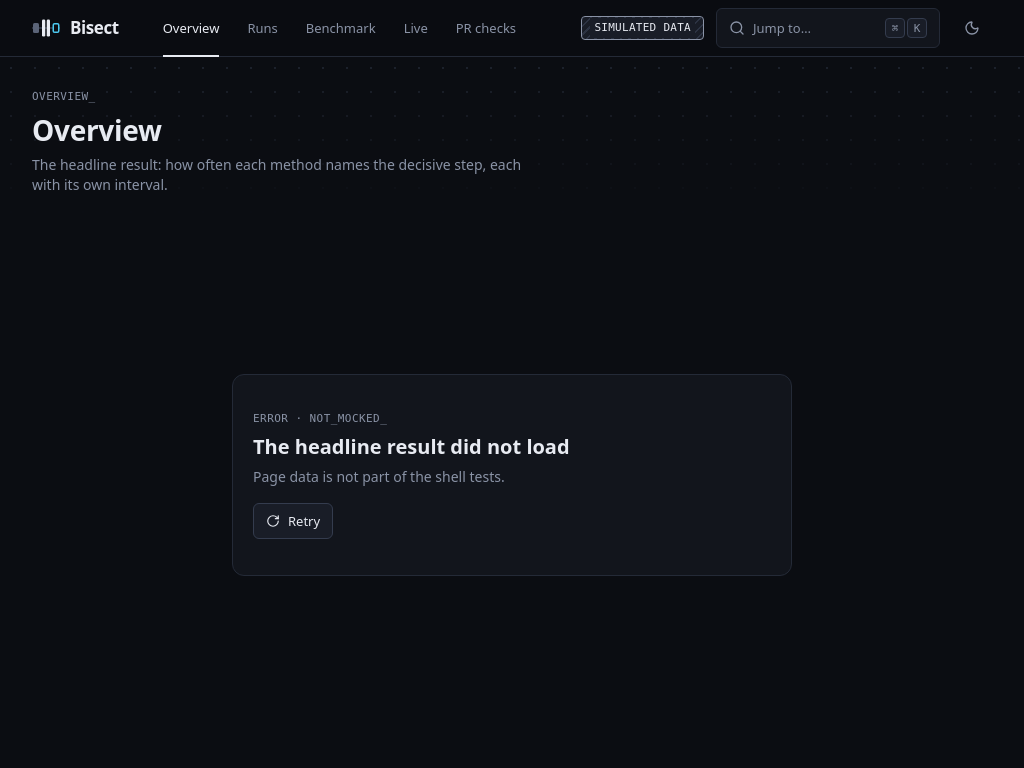
Test: AppShell › a search always offers the filter-runs action, and Enter opens Runs with that filter
Click the button with aria-label "Open command palette" at (828, 28), box top-left (716, 8), bottom-right (940, 48)
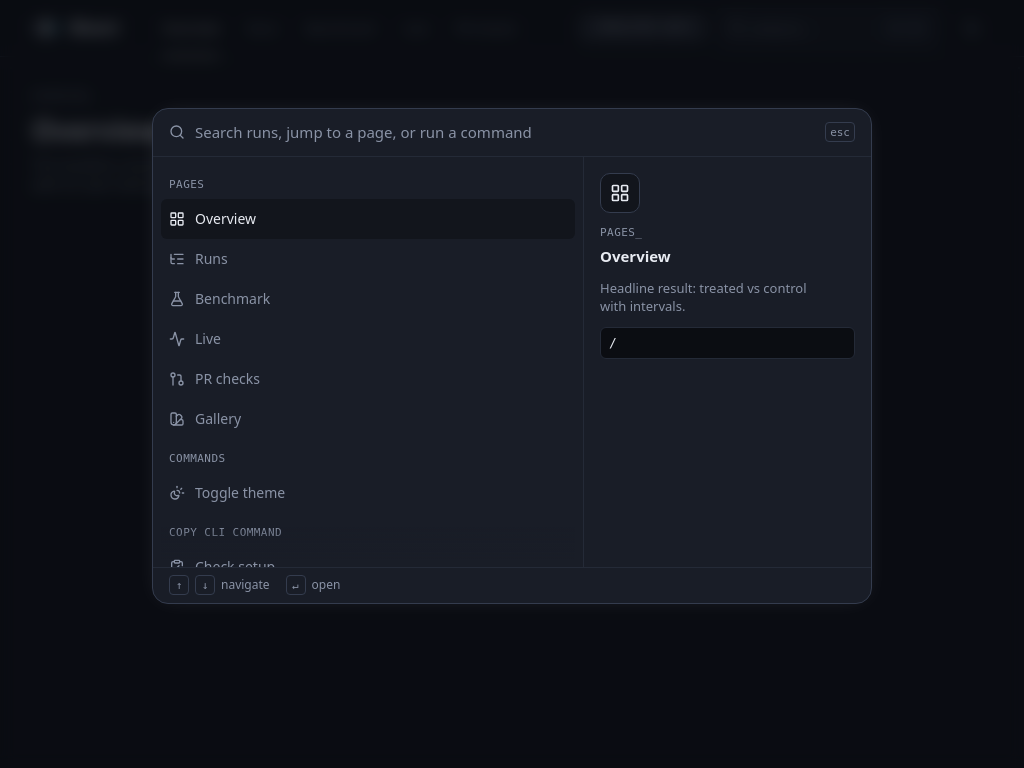
# The palette is a lazy chunk: wait for its input before typing.
Type "qqzz" into the dropdown at (505, 132), box top-left (195, 108), bottom-right (815, 156)
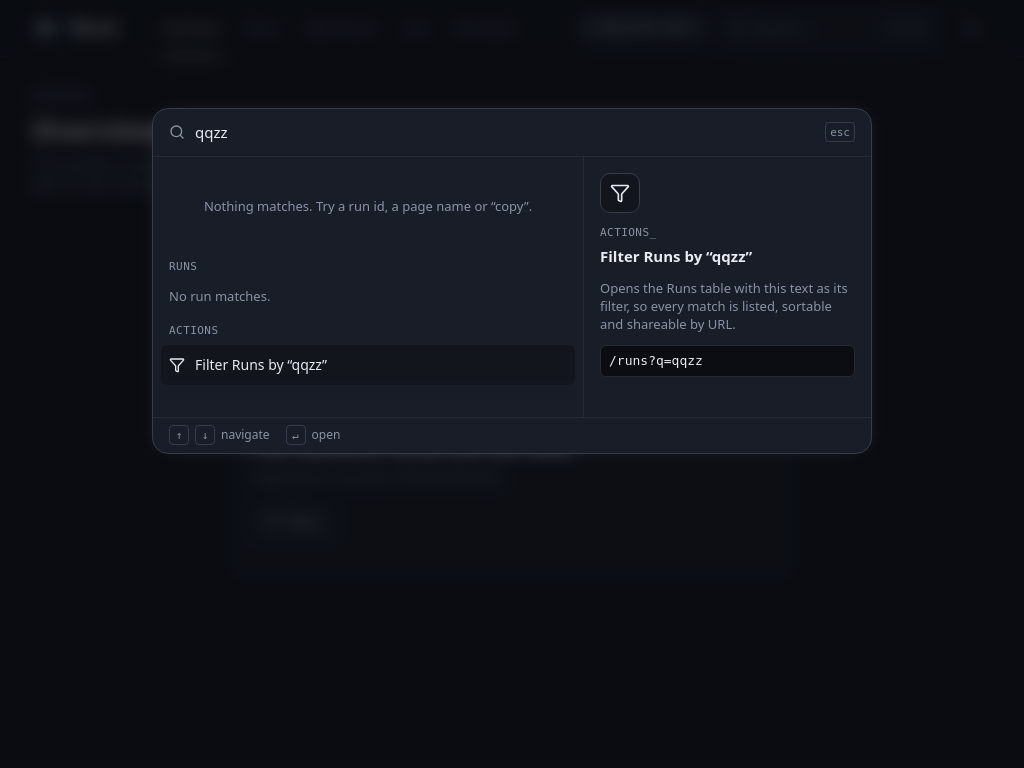
Expected: the option "Filter Runs by “qqzz”" is shown, top-left (161, 344), bottom-right (575, 384)
Expected: the text "No run matches." is shown, top-left (169, 286), bottom-right (270, 304)
Press Enter
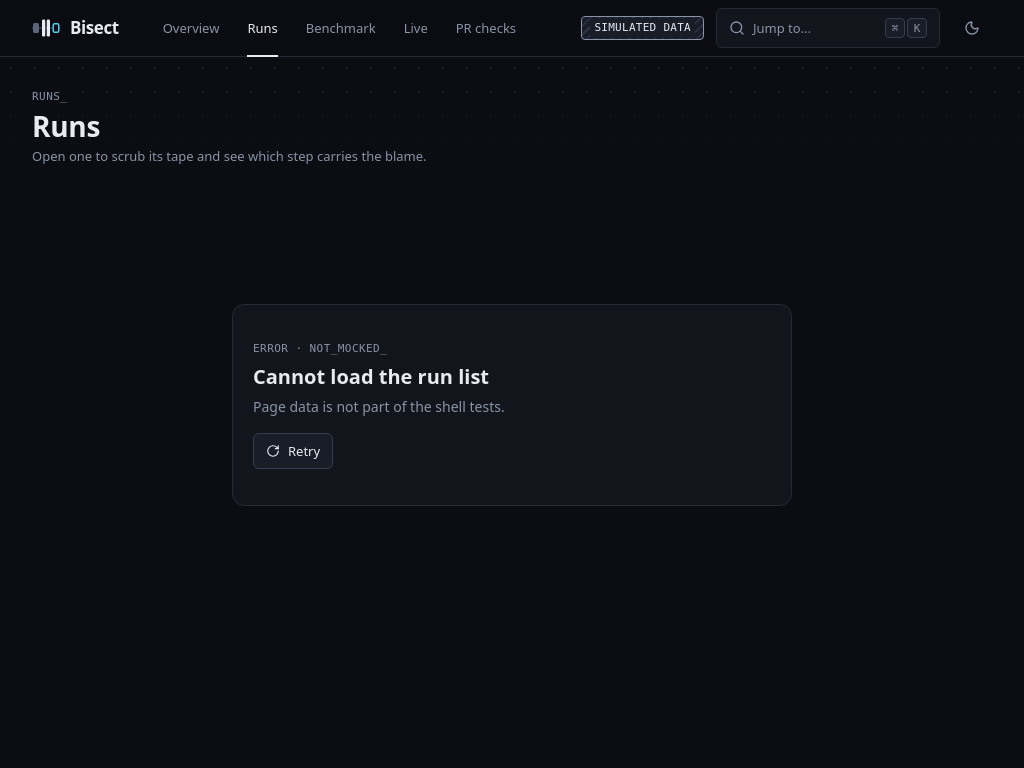
Expected: the heading "Runs" is shown, top-left (32, 107), bottom-right (100, 145)
